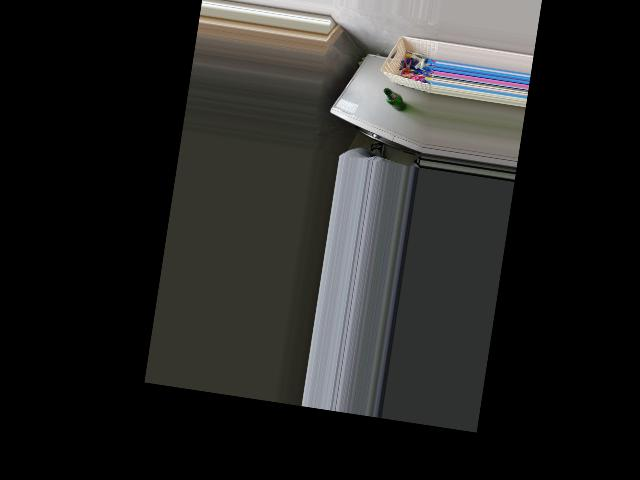beer: (380, 88, 408, 112)
